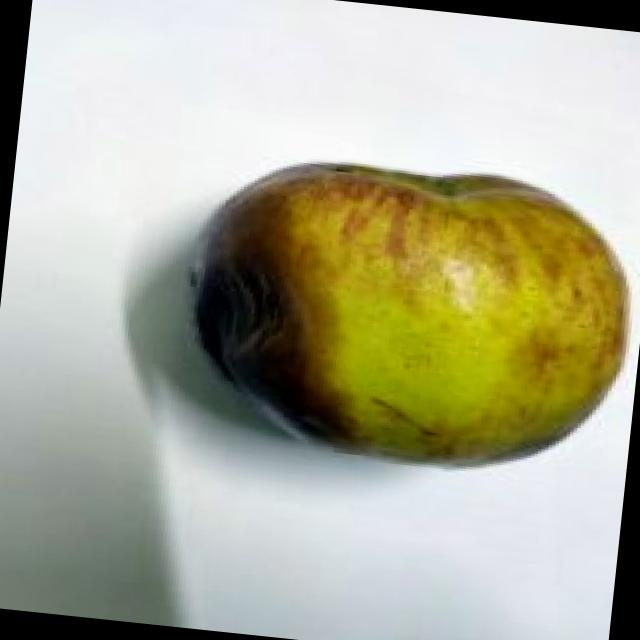Rotten_Apple: (154, 120, 640, 504)
